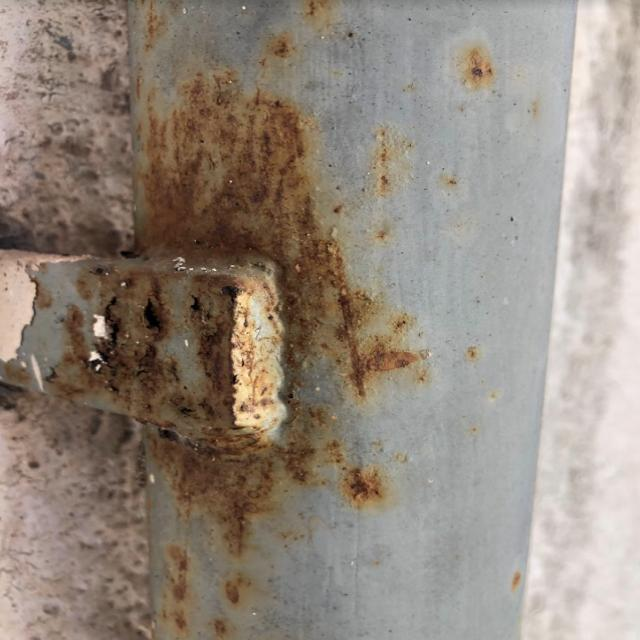Corrosion: (4, 0, 432, 562), (160, 548, 196, 632), (375, 129, 393, 196), (223, 574, 252, 606), (469, 53, 496, 84), (211, 619, 230, 640), (270, 39, 290, 58), (306, 0, 328, 16), (467, 348, 475, 358)
